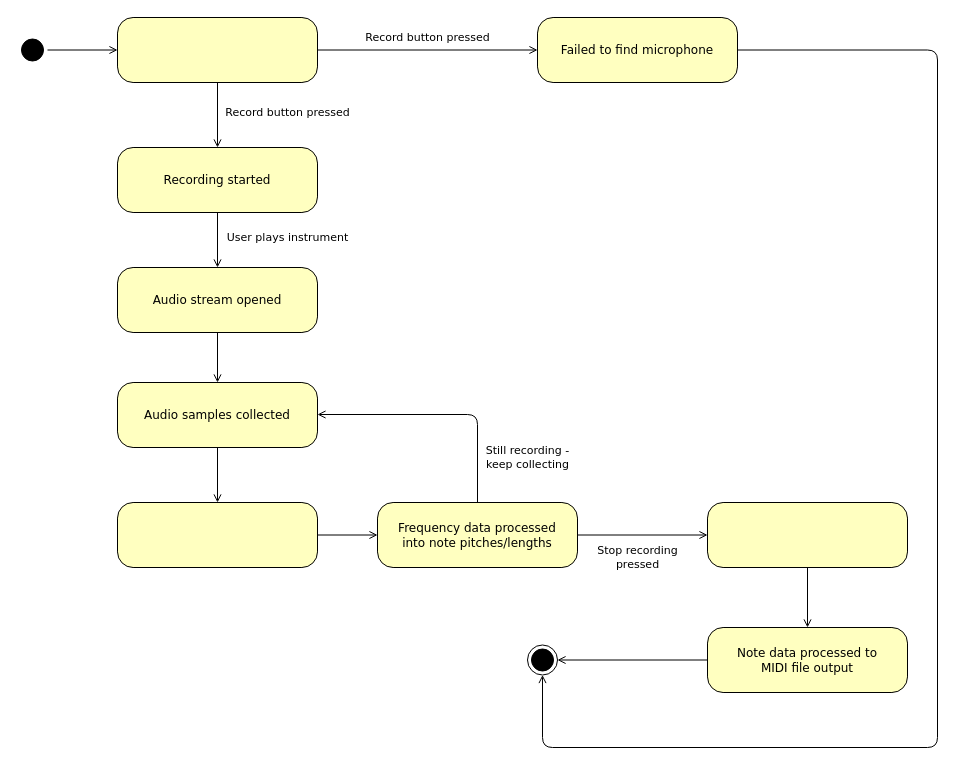
Image size: 963x773. Some labels were removed from this diagram. The shapes that lost their labels are listed below. From the top down, each one's centre as x and y in pixels, then its label:
At (x=217, y=49): "Inputs entered (key, time signature, tempo)".
At (x=217, y=535): "Audio samples processed into frequencies".
At (x=807, y=535): "Recording stopped".
